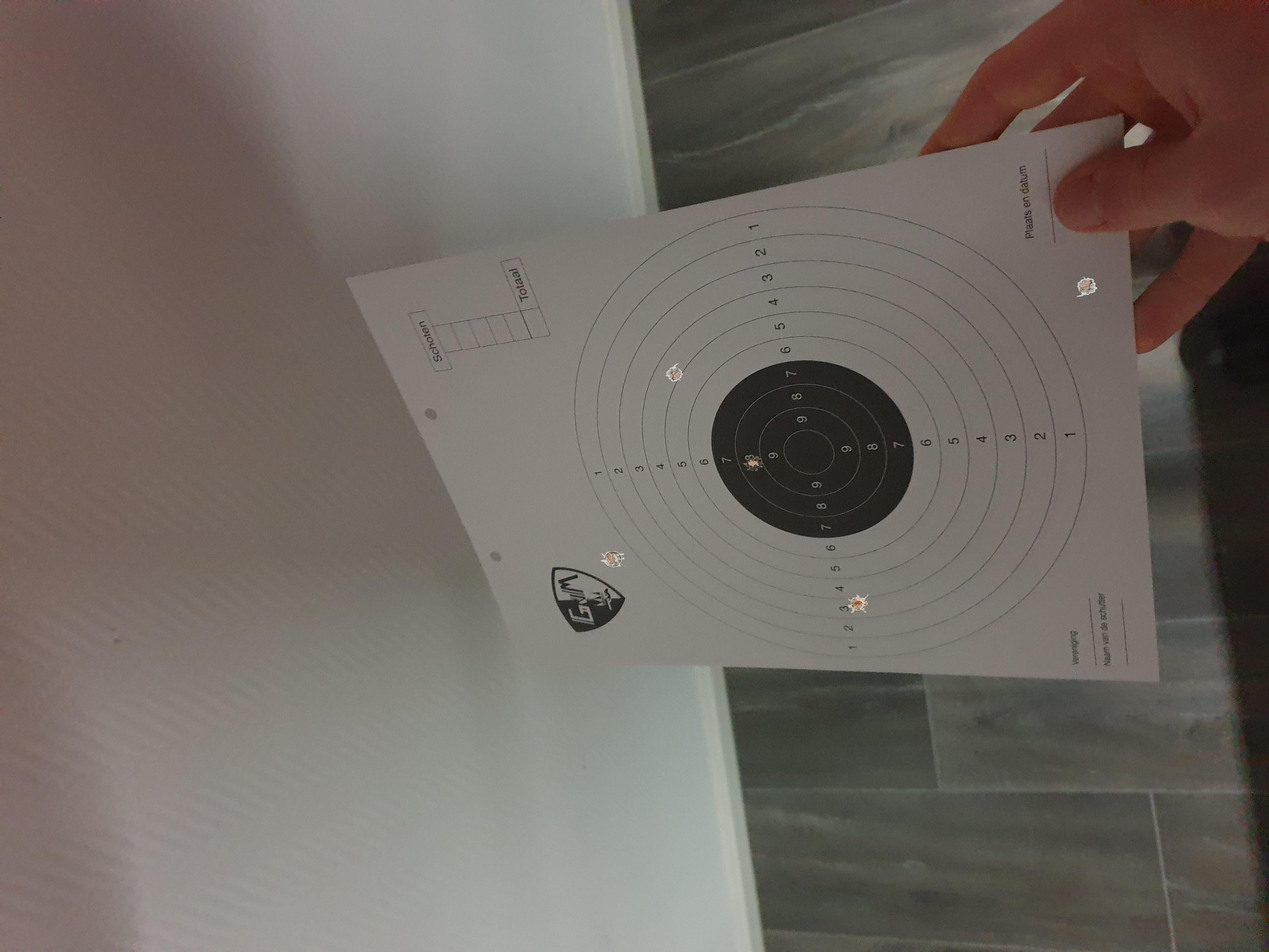hole: (1075, 277, 1096, 297), (847, 594, 869, 613), (601, 551, 624, 567), (743, 456, 765, 471), (666, 363, 683, 381)
